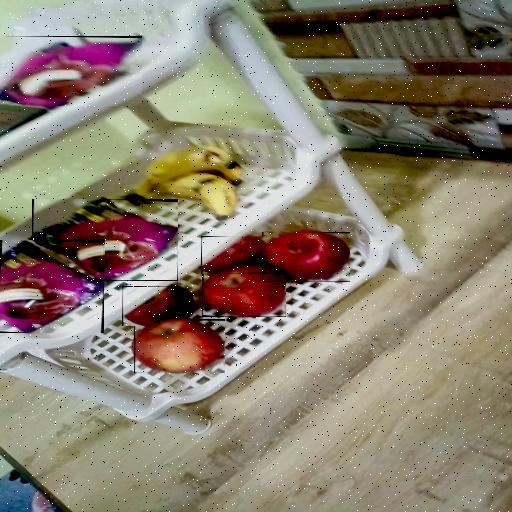Apple: (134, 319, 225, 373), (262, 232, 350, 282), (202, 266, 286, 317), (122, 286, 193, 326), (201, 236, 266, 274)
Choco Pie: (32, 199, 178, 281), (0, 36, 142, 106), (0, 240, 104, 333)
